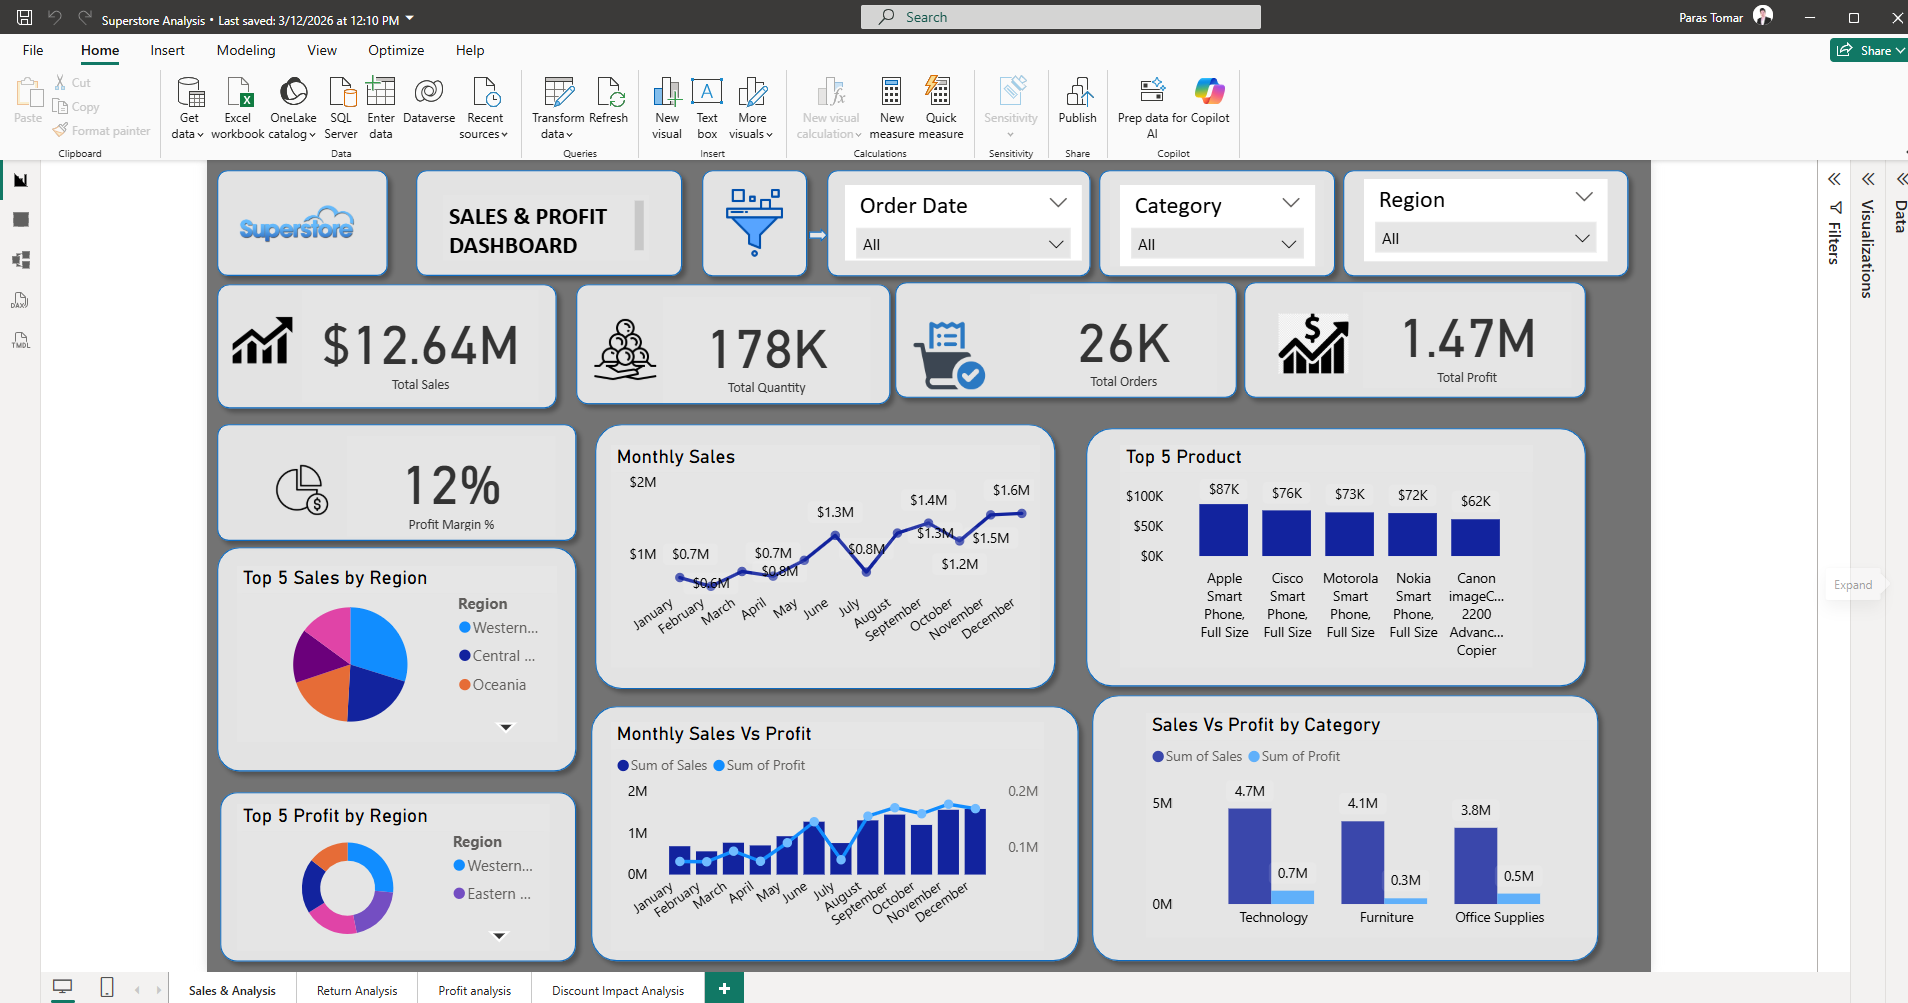

The page's visual inventory and layout, read from the dashboard file:
{"tool":"powerbi","page":{"name":"Sales  Analysis","canvas":[1280,720],"ordinal":0},"visuals":[{"type":"shape","box":[0,100.8,319,128.2],"z":0},{"type":"image","box":[17.6,115.5,62.6,88.1],"z":1000},{"type":"shape","box":[318.1,101.2,296.7,124.5],"z":2000},{"type":"card","fields":{"Values":["Order Table.Total Quantity"]},"box":[404.2,121.3,184,93.9],"z":3000},{"type":"card","fields":{"Values":["Order Table.Total Sales"]},"box":[84.2,115.5,210.4,99.8],"z":4000},{"type":"shape","box":[601.1,99.2,321,120.6],"z":5000},{"type":"card","fields":{"Values":["Order Table.Total Orders"]},"box":[729.5,118.7,166.3,88.5],"z":6000},{"type":"image","box":[336.6,133.1,67.5,70.5],"z":7000},{"type":"image","box":[614.7,138.1,88.5,70],"z":8000},{"type":"shape","box":[335.6,225.7,426,252.9],"z":9000},{"type":"lineChart","title":"Monthly Sales (All Years)","fields":{"Category":["Order Table.Month"],"Y":["Order Table.Total Sales"]},"box":[357.9,252.9,380.3,197.4],"z":10000},{"type":"shape","box":[0,334.6,336.5,216.9],"z":11000},{"type":"shape","box":[0,0,169.2,111.9],"z":12000},{"type":"image","box":[23.3,22.4,112.8,67.1],"z":13000},{"type":"shape","box":[176,0,253.9,111.9],"z":14000},{"type":"textbox","box":[209.6,31.2,183.3,58.5],"z":15000},{"type":"shape","box":[429.9,0,111.1,112.1],"z":16000},{"type":"image","box":[449.4,17.5,72.1,75.1],"z":17000},{"type":"shape","box":[541.1,0,251.5,112.1],"z":18000},{"type":"slicer","fields":{"Values":["Order Table.Order Date.Variation.Date Hierarchy.Year"]},"box":[800.4,17.5,190.1,77],"z":19000},{"type":"shape","box":[781.8,0,227.1,112.1],"z":20000},{"type":"shape","box":[998.3,0,271,112.1],"z":21000},{"type":"slicer","fields":{"Values":["Order Table.Category"]},"box":[809.1,22.4,172.6,72.1],"z":22000},{"type":"slicer","fields":{"Values":["Order Table.Region"]},"box":[1025.6,16.6,216.4,73.1],"z":23000},{"type":"shape","box":[770.3,228.6,461,247.1],"z":24000},{"type":"shape","box":[534.2,60.4,16.6,12.7],"z":25000},{"type":"clusteredColumnChart","title":"Top 5 Product","fields":{"Category":["Order Table.Product Name"],"Y":["Order Table.Total Sales"]},"box":[809.2,252.9,365.7,197.4],"z":26000},{"type":"shape","box":[910.4,99.2,321,120.6],"z":27000},{"type":"card","fields":{"Values":["Order Table.Total Profit"]},"box":[1025.2,116.7,184.8,84.6],"z":28000},{"type":"image","box":[929.8,131.3,102.1,63.2],"z":29000},{"type":"shape","box":[0,225.7,336.5,121.6],"z":30000},{"type":"card","fields":{"Values":["Order Table.Profit Margin %"]},"box":[124.5,245.1,184.8,89.5],"z":31000},{"type":"image","box":[28.2,261.6,112.8,62.2],"z":32000},{"type":"shape","box":[331.7,475.6,450.3,244.1],"z":33000},{"type":"lineClusteredColumnComboChart","title":"Monthly Sales Vs Profit (All Years)","fields":{"Category":["Order Table.Month"],"Y":["Sum(Order Table.Sales)"],"Y2":["Sum(Order Table.Profit)"]},"box":[357.9,498,384.2,203.3],"z":34000},{"type":"shape","box":[776.2,465.9,466.9,253.9],"z":35000},{"type":"clusteredColumnChart","title":"Sales Vs Profit by Category","fields":{"Category":["Order Table.Category"],"Y":["Sum(Order Table.Sales)","Sum(Order Table.Profit)"]},"box":[832.6,490.2,398.8,199.4],"z":36000},{"type":"pieChart","title":"Share of Top 5 Region by Sales","fields":{"Category":["Order Table.Region"],"Y":["Sum(Order Table.Sales)"]},"box":[22.2,352,291.7,178.2],"z":37000},{"type":"shape","box":[2.9,551.5,333.6,168.3],"z":38000},{"type":"donutChart","title":"Share of Top 5 Regions by Profit","fields":{"Category":["Order Table.Region"],"Y":["Sum(Order Table.Profit)"]},"box":[26.3,570.9,291.8,130.3],"z":39000},{"type":"slicer","fields":{"Values":["Order Table.Order Date"]},"box":[557.3,18.5,218.8,78.8],"z":40000}]}

Visuals, with their boxes on the page's 1280x720 design canvas (x1, y1, x2, y2). These are canvas units, not pixel positions in the 1908x1003 screenshot, which may show the page scaled, cropped or inside an application window:
shape: x1=0, y1=101, x2=319, y2=229
image: x1=18, y1=116, x2=80, y2=204
shape: x1=318, y1=101, x2=615, y2=226
card - Order Table.Total Quantity: x1=404, y1=121, x2=588, y2=215
card - Order Table.Total Sales: x1=84, y1=116, x2=295, y2=215
shape: x1=601, y1=99, x2=922, y2=220
card - Order Table.Total Orders: x1=730, y1=119, x2=896, y2=207
image: x1=337, y1=133, x2=404, y2=204
image: x1=615, y1=138, x2=703, y2=208
shape: x1=336, y1=226, x2=762, y2=479
"Monthly Sales (All Years)" lineChart: x1=358, y1=253, x2=738, y2=450
shape: x1=0, y1=335, x2=336, y2=552
shape: x1=0, y1=0, x2=169, y2=112
image: x1=23, y1=22, x2=136, y2=90
shape: x1=176, y1=0, x2=430, y2=112
textbox: x1=210, y1=31, x2=393, y2=90
shape: x1=430, y1=0, x2=541, y2=112
image: x1=449, y1=18, x2=522, y2=93
shape: x1=541, y1=0, x2=793, y2=112
slicer - Order Table.Order Date.Variation.Date Hierarchy.Year: x1=800, y1=18, x2=990, y2=94
shape: x1=782, y1=0, x2=1009, y2=112
shape: x1=998, y1=0, x2=1269, y2=112
slicer - Order Table.Category: x1=809, y1=22, x2=982, y2=94
slicer - Order Table.Region: x1=1026, y1=17, x2=1242, y2=90
shape: x1=770, y1=229, x2=1231, y2=476
shape: x1=534, y1=60, x2=551, y2=73
"Top 5 Product" clusteredColumnChart: x1=809, y1=253, x2=1175, y2=450
shape: x1=910, y1=99, x2=1231, y2=220
card - Order Table.Total Profit: x1=1025, y1=117, x2=1210, y2=201
image: x1=930, y1=131, x2=1032, y2=194
shape: x1=0, y1=226, x2=336, y2=347
card - Order Table.Profit Margin %: x1=124, y1=245, x2=309, y2=335
image: x1=28, y1=262, x2=141, y2=324
shape: x1=332, y1=476, x2=782, y2=720
"Monthly Sales Vs Profit (All Years)" lineClusteredColumnComboChart: x1=358, y1=498, x2=742, y2=701
shape: x1=776, y1=466, x2=1243, y2=720
"Sales Vs Profit by Category" clusteredColumnChart: x1=833, y1=490, x2=1231, y2=690
"Share of Top 5 Region by Sales" pieChart: x1=22, y1=352, x2=314, y2=530
shape: x1=3, y1=552, x2=336, y2=720
"Share of Top 5 Regions by Profit" donutChart: x1=26, y1=571, x2=318, y2=701
slicer - Order Table.Order Date: x1=557, y1=18, x2=776, y2=97
